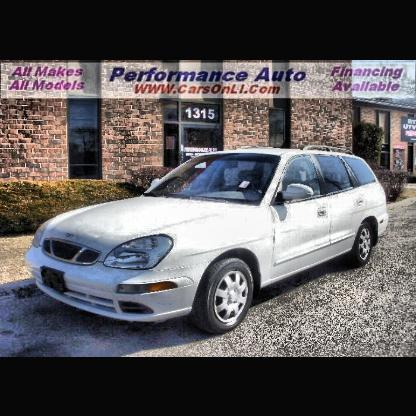Daewoo Nubira Wagon 2002: (26, 144, 390, 331)
